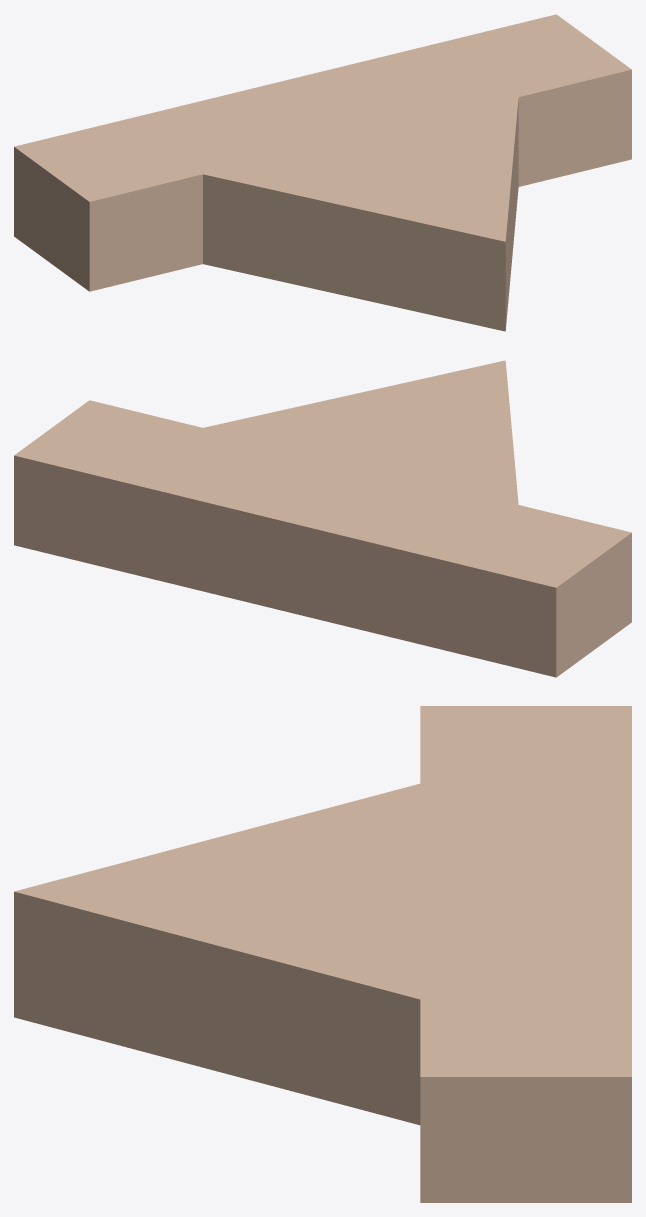
The model's file is SM_Shape_Square_Tiangle__02.fbx.
3 views of the same model, one above another, from view 1: azimuth 30°, elevation 25°; view 2: azimuth 150°, elevation 25°; view 3: azimuth 270°, elevation 25° (orthographic). The views are drawn at different scales.
Parts seen in each view (by area): view 1: SM_Shape_Square_Tiangle__02; view 2: SM_Shape_Square_Tiangle__02; view 3: SM_Shape_Square_Tiangle__02.
Part boxes in pixels (x1,y1,x2,y2): SM_Shape_Square_Tiangle__02: (14,14,631,331); SM_Shape_Square_Tiangle__02: (14,360,631,677); SM_Shape_Square_Tiangle__02: (14,706,631,1202).
Bounding box in the file's own units: 8.85 × 1.4 × 6.23.
